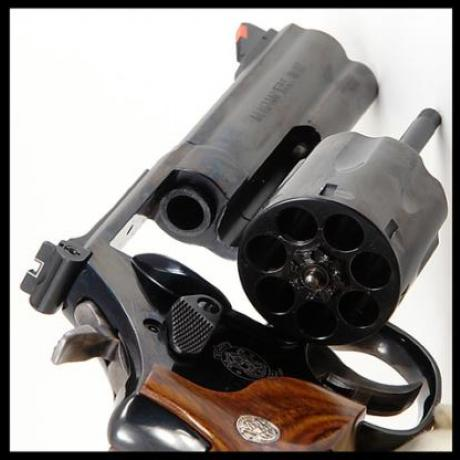weapon: (8, 18, 452, 454)
